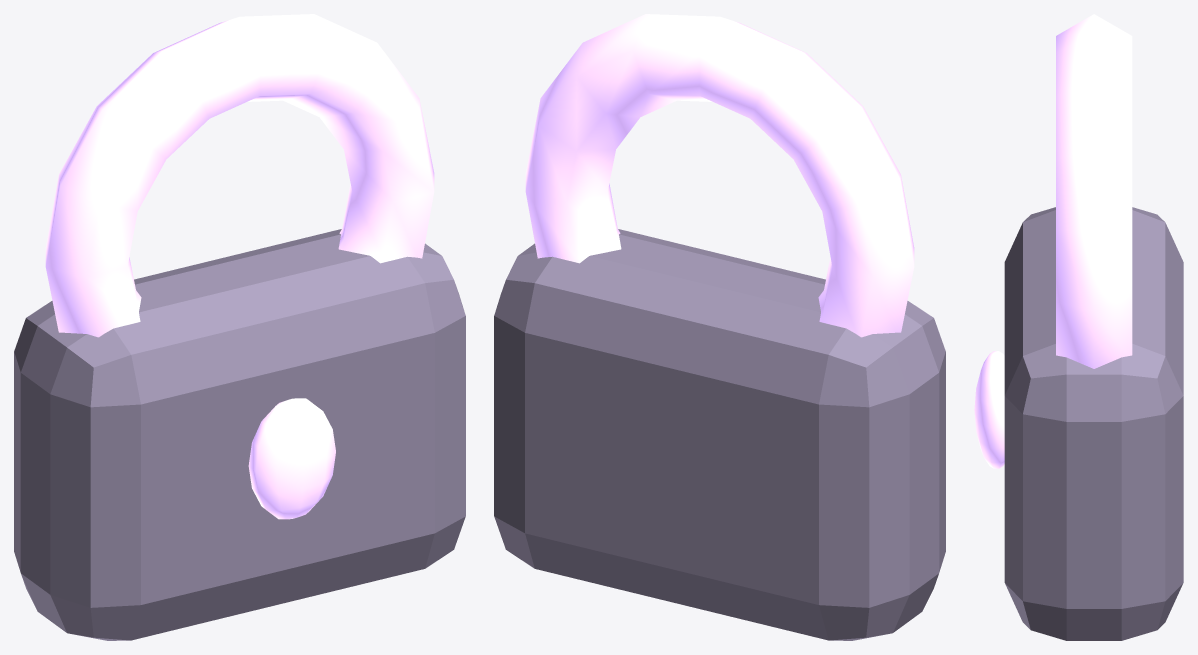
Rendered from goal-lock.glb.
The picture shows the model from 3 angles, left to right: view 1: azimuth 30°, elevation 25°; view 2: azimuth 150°, elevation 25°; view 3: azimuth 270°, elevation 25°; orthographic projection. The views are drawn at different scales.
Parts seen in each view (by area): view 1: mesh_goal_lock_body, mesh_goal_lock_glow; view 2: mesh_goal_lock_body, mesh_goal_lock_glow; view 3: mesh_goal_lock_body, mesh_goal_lock_glow.
Boxes of the visible parts, left/top/right/bottom form: mesh_goal_lock_body: left=14, top=229, right=465, bottom=640; mesh_goal_lock_glow: left=45, top=14, right=434, bottom=519; mesh_goal_lock_body: left=494, top=229, right=945, bottom=640; mesh_goal_lock_glow: left=525, top=14, right=914, bottom=337; mesh_goal_lock_body: left=1004, top=207, right=1183, bottom=640; mesh_goal_lock_glow: left=974, top=14, right=1132, bottom=468.
Size of the model in its own units: 0.32 by 0.432 by 0.152.
